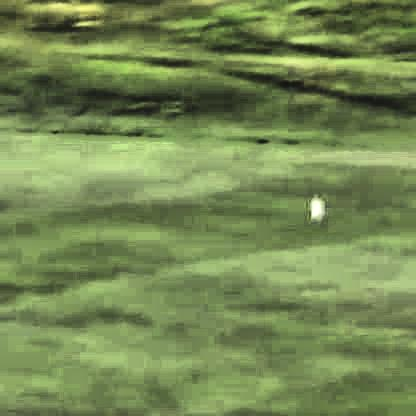golfball: (306, 192, 322, 214)
